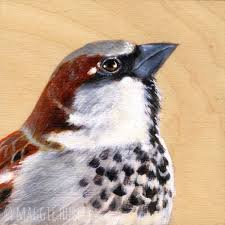hsparrow: (1, 37, 186, 225)
